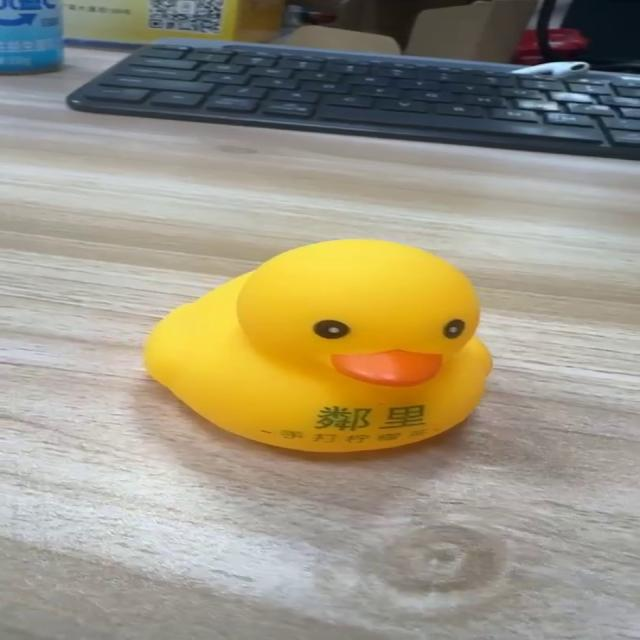yellow_duck: (140, 236, 495, 453)
